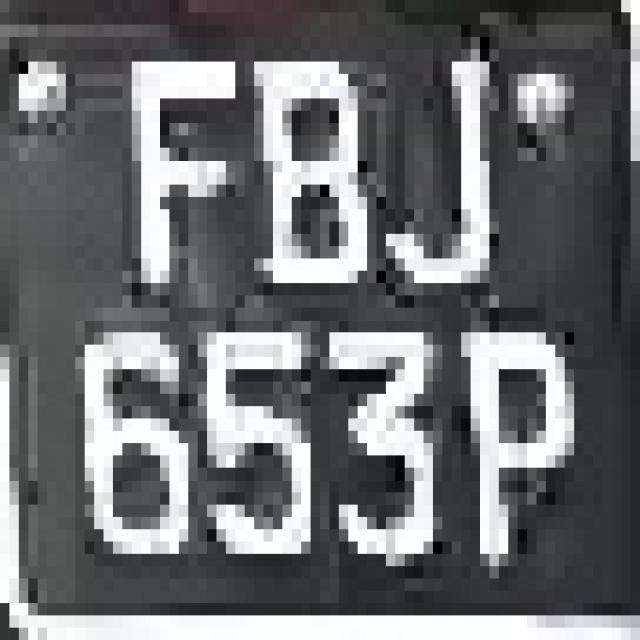3: (320, 320, 433, 578)
5: (198, 320, 320, 554)
6: (56, 283, 198, 579)
B: (236, 24, 376, 344)
F: (122, 0, 245, 308)
J: (367, 25, 518, 308)
P: (452, 308, 574, 590)
